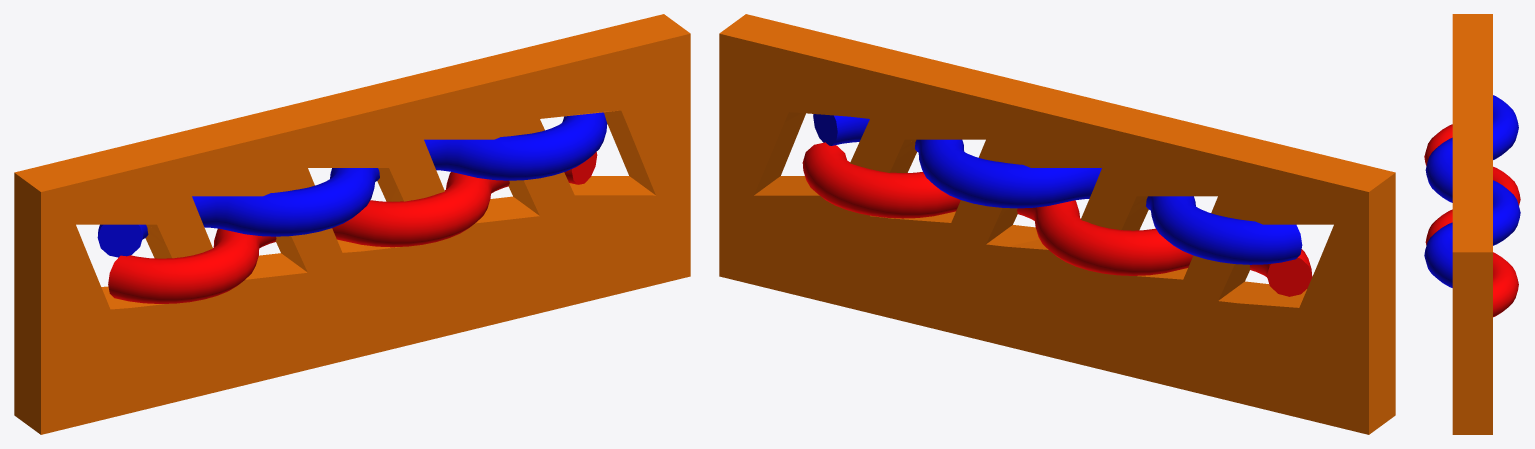
The model's file is parallel.glb.
3 views of the same model, side by side, from view 1: azimuth 30°, elevation 25°; view 2: azimuth 150°, elevation 25°; view 3: azimuth 270°, elevation 25° (orthographic). The views are drawn at different scales.
Visible parts, largest first — view 1: Bottom Applied, Top Applied, Parallel Blue, Parallel Red; view 2: Bottom Applied, Top Applied, Parallel Blue, Parallel Red; view 3: Top Applied, Bottom Applied, Parallel Blue, Parallel Red.
Boxes of the visible parts, x1=… form: Bottom Applied: x1=14, y1=107, x2=690, y2=434; Top Applied: x1=14, y1=14, x2=690, y2=271; Parallel Blue: x1=97, y1=112, x2=607, y2=257; Parallel Red: x1=108, y1=152, x2=597, y2=303; Bottom Applied: x1=719, y1=106, x2=1395, y2=434; Top Applied: x1=719, y1=14, x2=1395, y2=276; Parallel Blue: x1=813, y1=114, x2=1302, y2=264; Parallel Red: x1=802, y1=142, x2=1312, y2=296; Top Applied: x1=1452, y1=14, x2=1492, y2=313; Bottom Applied: x1=1452, y1=307, x2=1492, y2=434; Parallel Blue: x1=1424, y1=95, x2=1520, y2=287; Parallel Red: x1=1424, y1=124, x2=1520, y2=317.
Bounding box in the file's own units: 28 × 10 × 4.78.
